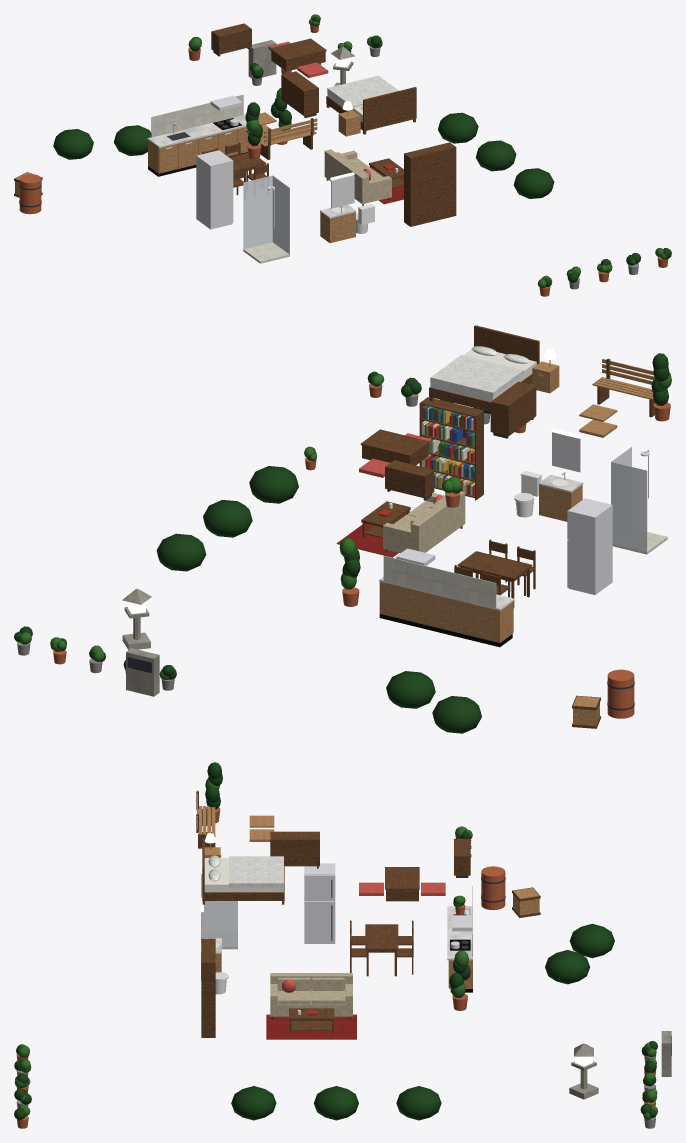
The model's file is i_house_eastasian_tile.gltf.
The picture shows the model from 3 angles, top to bottom: view 1: azimuth 30°, elevation 25°; view 2: azimuth 150°, elevation 25°; view 3: azimuth 270°, elevation 25°; orthographic projection. The views are drawn at different scales.
Parts seen in each view (by area): view 1: I_house_eastasian_tile; view 2: I_house_eastasian_tile; view 3: I_house_eastasian_tile.
Boxes of the visible parts, <box> form: I_house_eastasian_tile: <box>14,14,671,296</box>; I_house_eastasian_tile: <box>14,325,671,733</box>; I_house_eastasian_tile: <box>14,762,671,1128</box>.
Bounding box in the file's own units: 13.21 × 5.25 × 15.94.
29 materials, 11 textured.
